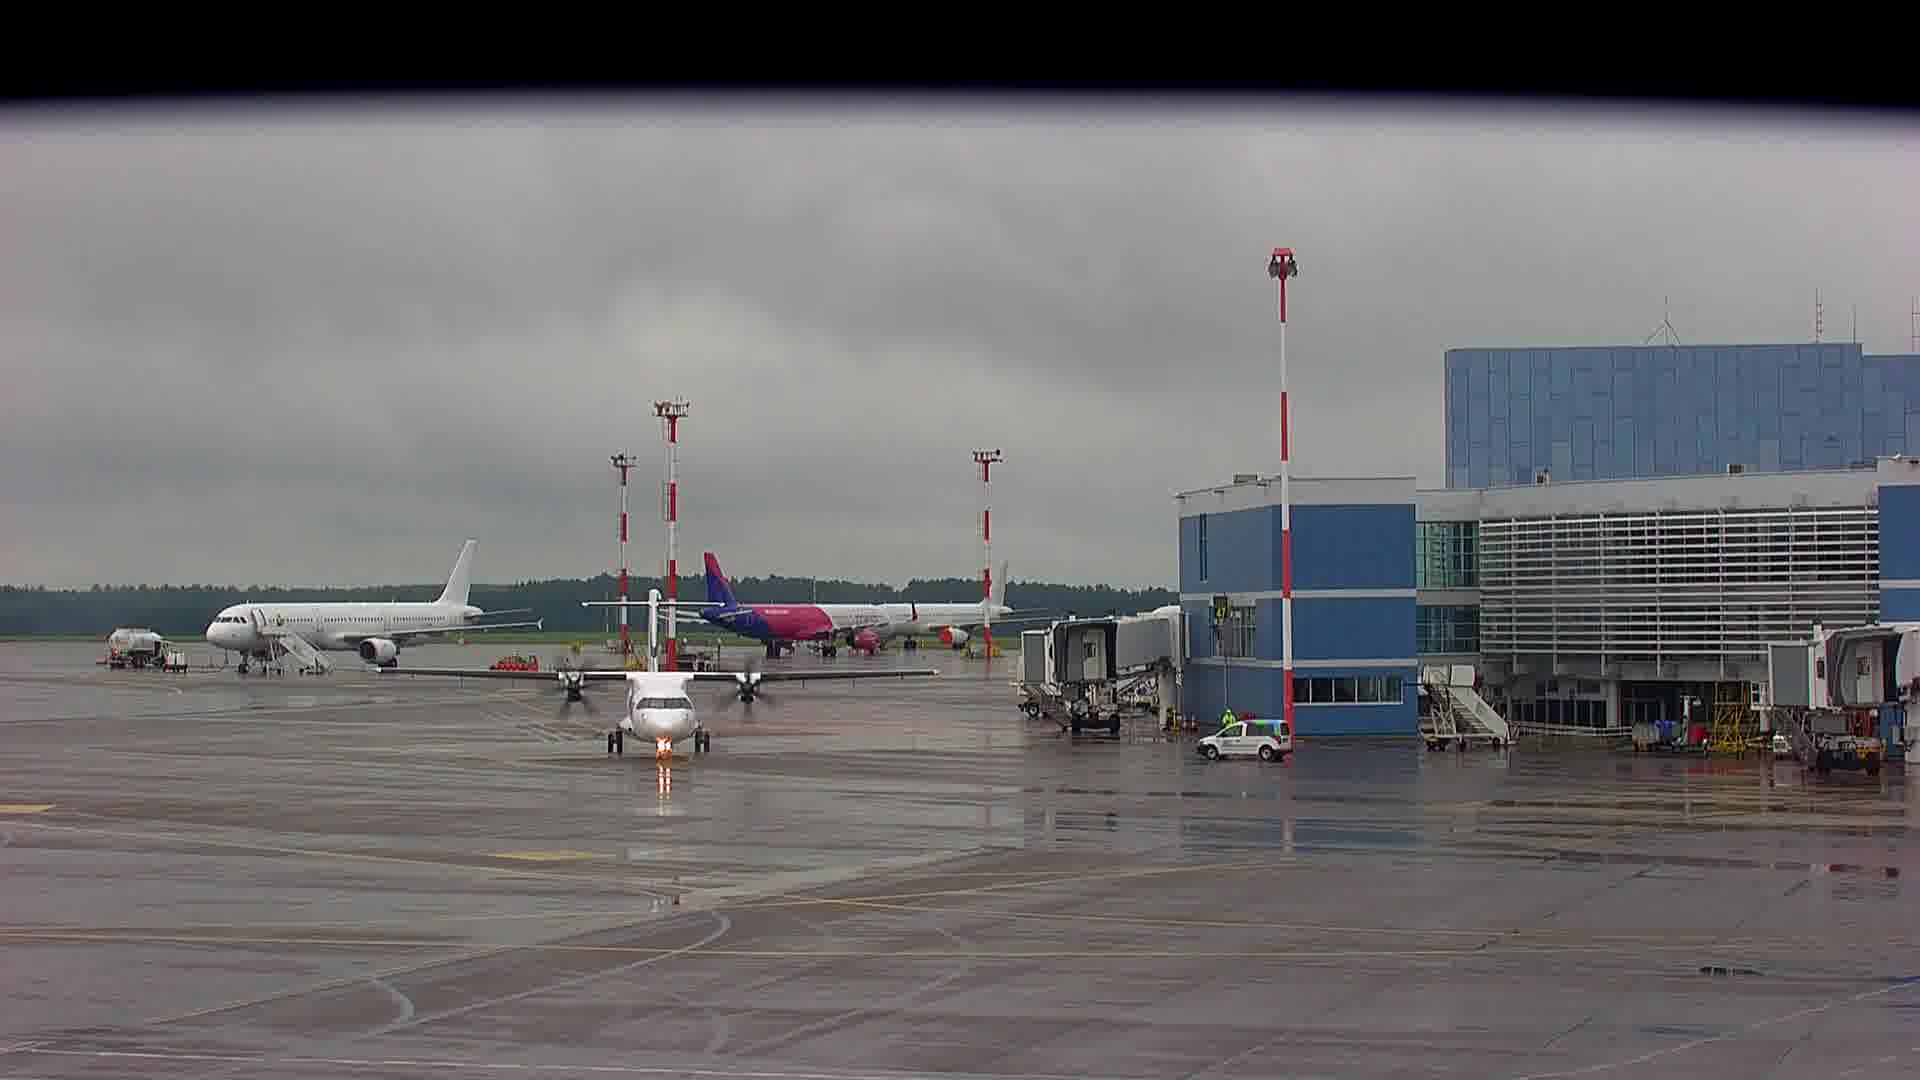Car: (1189, 719, 1297, 760)
Fuel: (98, 624, 169, 682)
Mobile stairs: (1414, 660, 1521, 759)
Plane: (371, 591, 939, 765), (209, 534, 551, 692), (633, 546, 919, 662), (798, 551, 1059, 662)
Worker: (1219, 705, 1232, 726), (272, 609, 284, 627)
